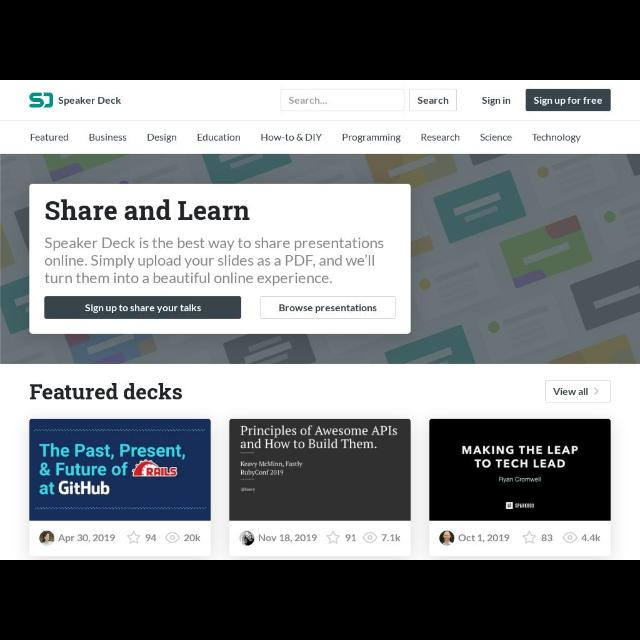backgroundimage: (1, 154, 640, 363)
button: (546, 382, 610, 402)
icon: (126, 532, 142, 544), (164, 532, 180, 544), (562, 532, 578, 544), (326, 532, 340, 544), (524, 530, 536, 544), (362, 532, 378, 542), (593, 386, 599, 396)
image: (230, 418, 410, 520), (30, 420, 210, 520), (430, 420, 610, 520), (29, 92, 121, 108), (40, 530, 54, 546), (240, 530, 254, 546), (440, 530, 454, 546)
input: (282, 89, 404, 111)
multitab: (1, 120, 640, 154)
text: (44, 236, 384, 284), (44, 198, 250, 222), (30, 382, 182, 402), (341, 132, 402, 144), (532, 132, 582, 144), (197, 132, 241, 144), (260, 134, 322, 142), (258, 534, 318, 542), (89, 132, 128, 144), (58, 534, 115, 542), (30, 132, 70, 142), (421, 132, 461, 142), (459, 534, 509, 542), (288, 96, 328, 105), (482, 95, 512, 106), (481, 132, 514, 142), (552, 388, 588, 397), (146, 133, 178, 143), (381, 534, 401, 542), (184, 534, 202, 542), (582, 534, 600, 542), (541, 534, 553, 542), (146, 534, 156, 542), (346, 534, 356, 542)
textbutton: (45, 297, 241, 319), (260, 298, 396, 318), (527, 89, 611, 111), (410, 90, 456, 110)
